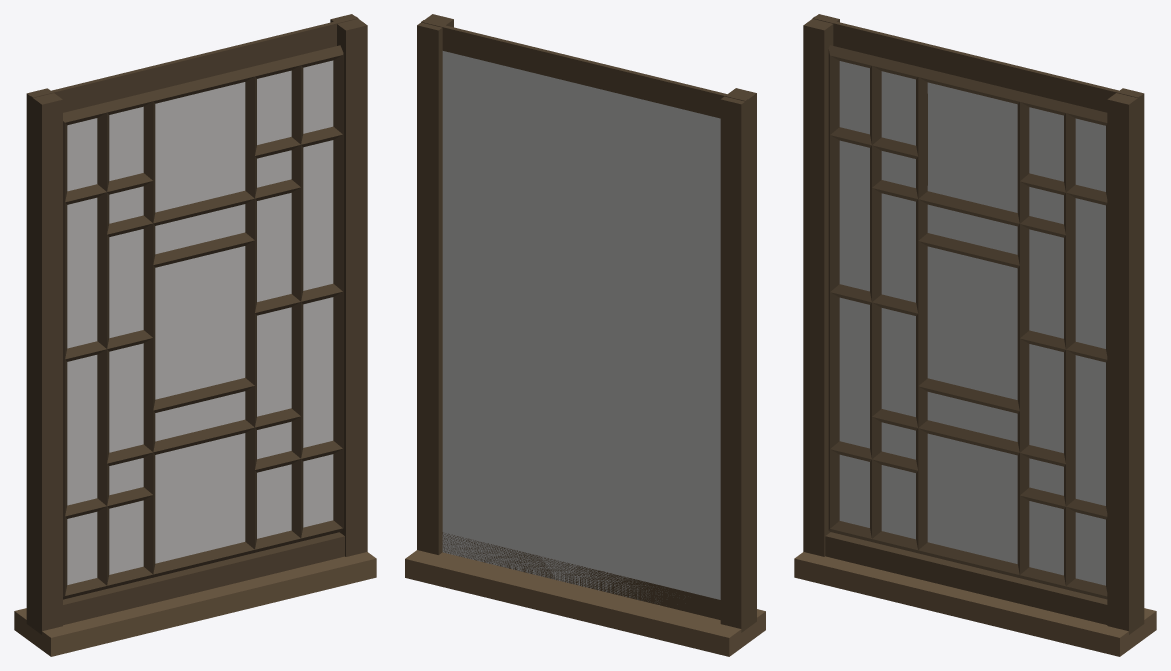
File: SM_Env_Window_06.fbx
3 views of the same model, side by side, from view 1: azimuth 30°, elevation 25°; view 2: azimuth 150°, elevation 25°; view 3: azimuth 330°, elevation 25° (orthographic).
Visible parts, largest first — view 1: SM_Env_Window_06; view 2: SM_Env_Window_06; view 3: SM_Env_Window_06.
Boxes of the visible parts, x1,y1,x2,y2 form: SM_Env_Window_06: [14, 14, 376, 656]; SM_Env_Window_06: [405, 14, 765, 656]; SM_Env_Window_06: [794, 14, 1156, 656].
Size of the model in its own units: 61.47 by 98.57 by 12.01.
1 material, 1 textured.
